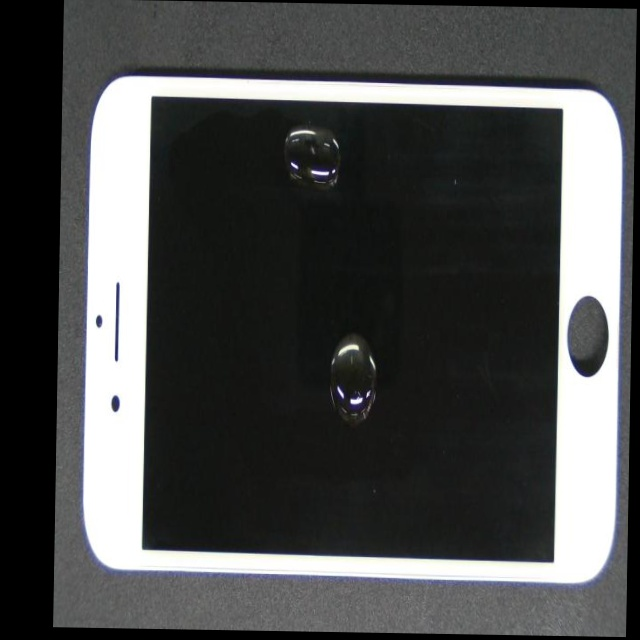oil: (239, 165, 531, 496), (216, 65, 457, 195)
